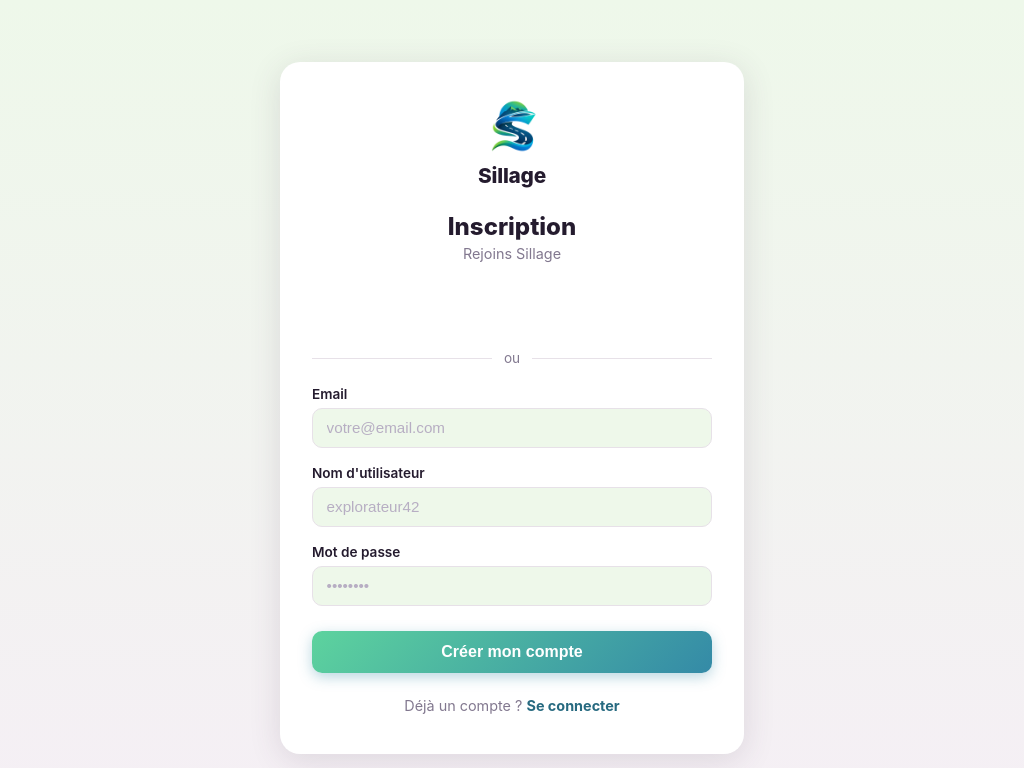
Test: Register — erreurs API › affiche l'erreur "Email déjà utilisé"
This screenshot has width=1024, height=768.
Type "dup@test.com" into the field labelled "Email".
click(512, 428); type("dup@test.com")  # box [312,408,712,448]
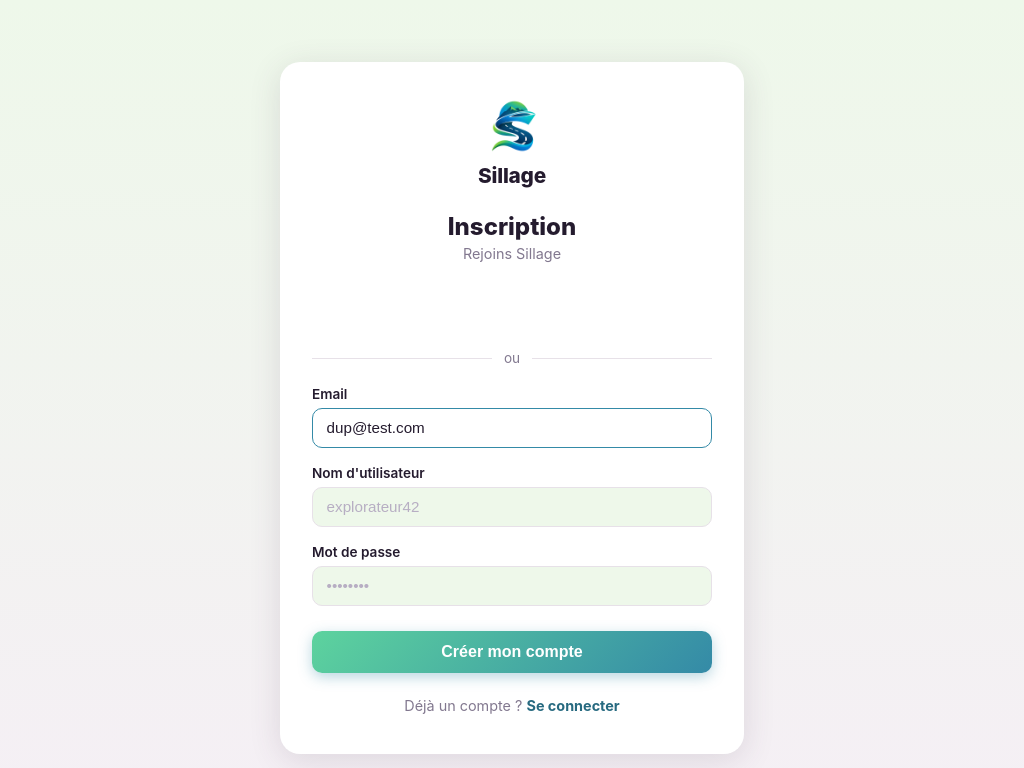
Type "newuser" into the field labelled "Nom d'utilisateur".
click(512, 507); type("newuser")  # box [312,487,712,527]
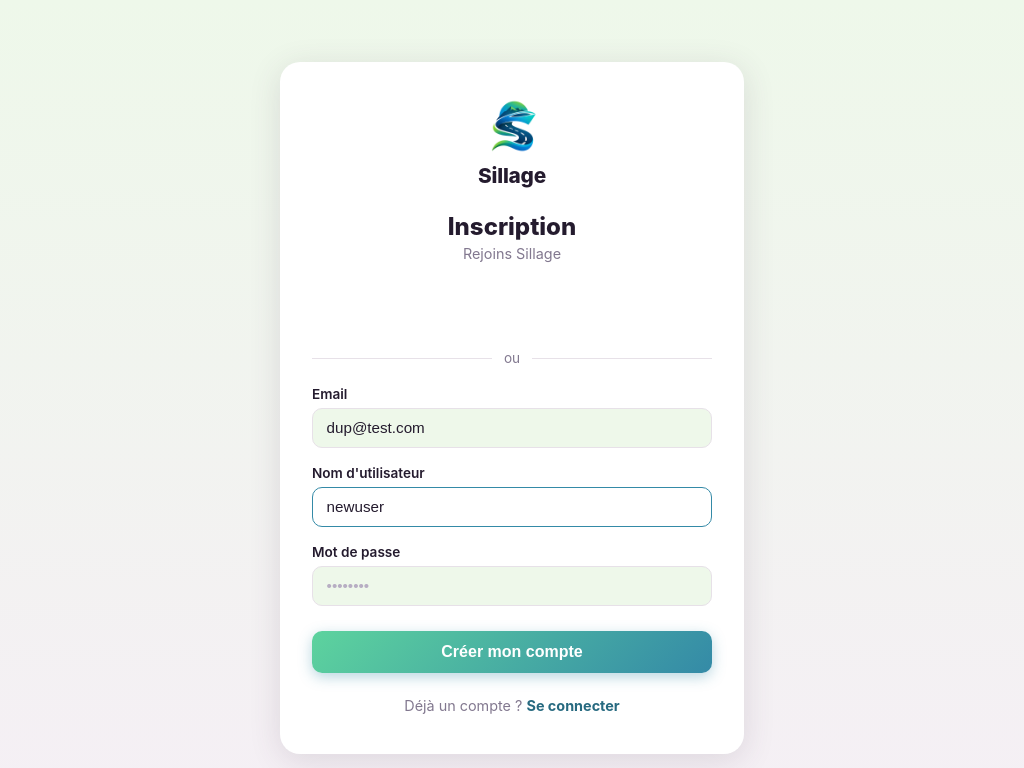
Type "securepass" into the password field labelled "Mot de passe".
click(512, 586); type("securepass")  # box [312,566,712,606]
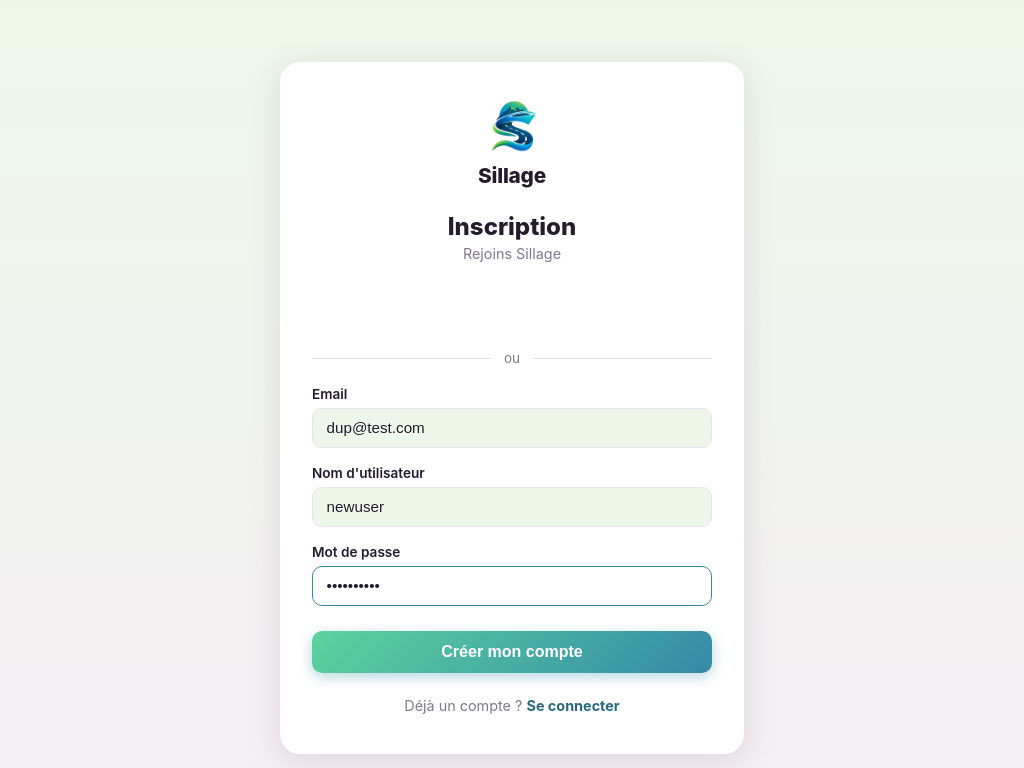
Click the button "Créer mon compte".
click(512, 652)  # box [312,631,712,673]
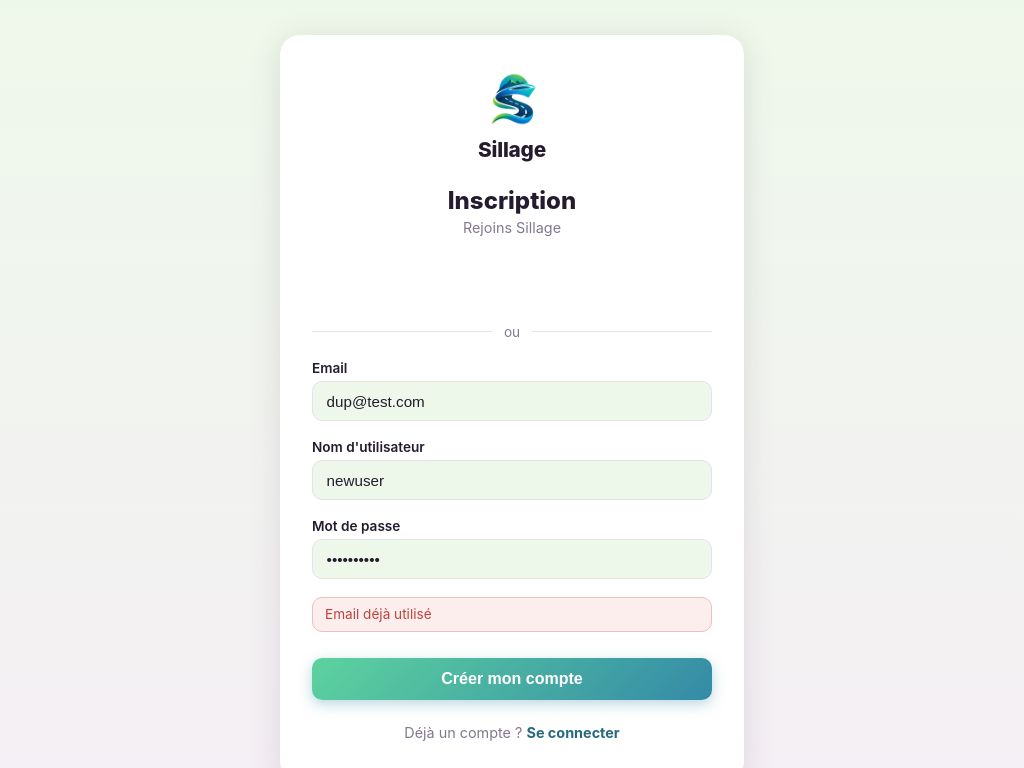
Expected: the text "Email déjà utilisé" is shown, [312,597,712,632]
